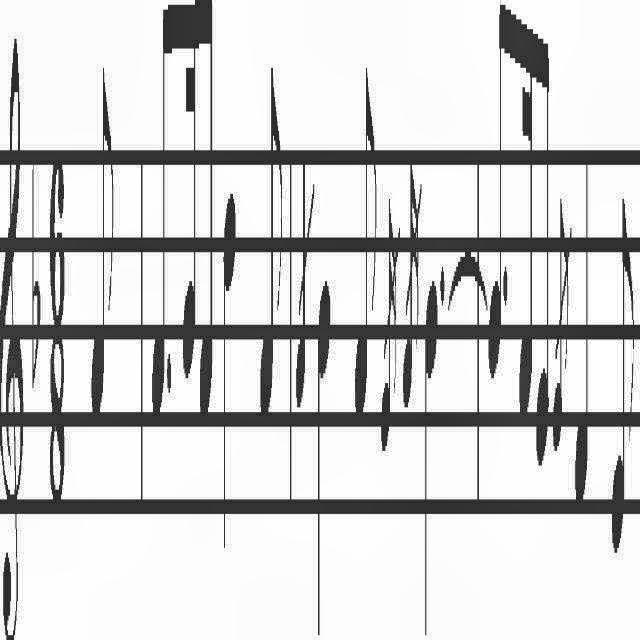Bass-clef: (0, 0, 28, 640)
Bemol: (28, 141, 42, 411)
Eighth-note: (350, 39, 378, 452), (256, 54, 284, 430), (611, 183, 637, 572), (91, 19, 115, 428), (146, 6, 166, 444), (536, 3, 552, 481), (197, 0, 214, 416), (485, 0, 503, 392)
Quarter-note: (311, 276, 333, 640), (219, 160, 237, 558), (574, 140, 590, 546), (423, 242, 439, 640)
Sixteenth-note: (518, 0, 534, 446), (182, 0, 198, 378)
